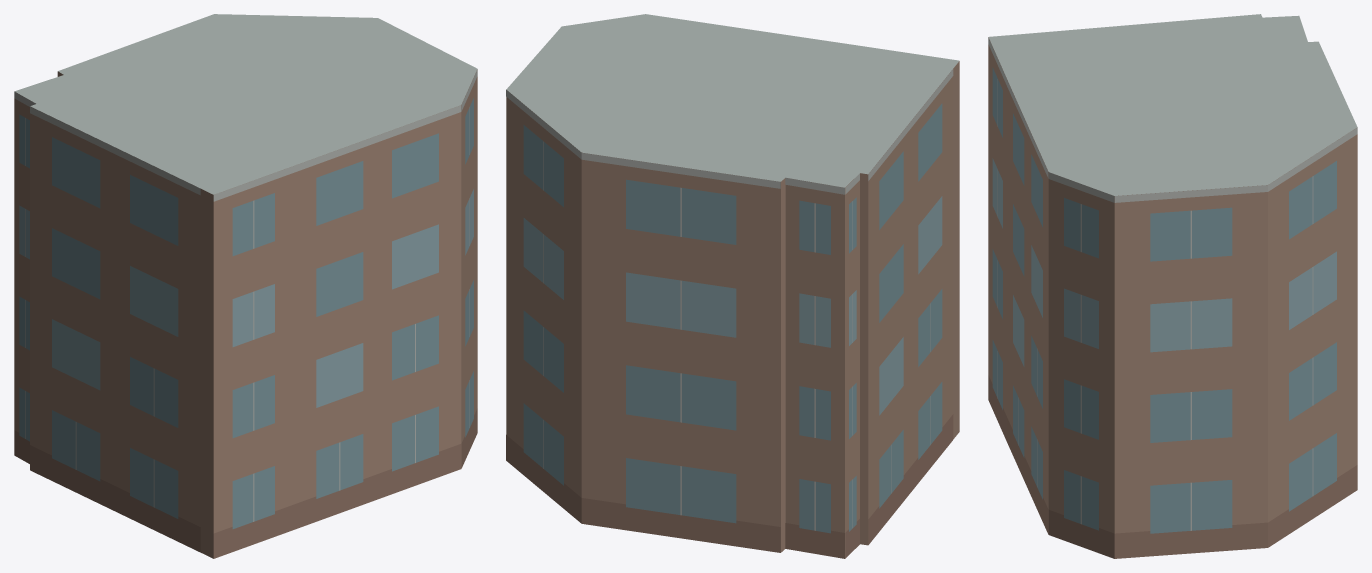
The model's file is survey-upis-32983092.glb.
The picture shows the model from 3 angles, left to right: view 1: azimuth 30°, elevation 25°; view 2: azimuth 150°, elevation 25°; view 3: azimuth 270°, elevation 25°; orthographic projection. The views are drawn at different scales.
Parts seen in each view (by area): view 1: survey-upis-32983092.tmp; view 2: survey-upis-32983092.tmp; view 3: survey-upis-32983092.tmp.
Part boxes in pixels (x1,y1,x2,y2): survey-upis-32983092.tmp: [14, 14, 477, 558]; survey-upis-32983092.tmp: [506, 14, 959, 558]; survey-upis-32983092.tmp: [988, 14, 1357, 558].
Bounding box in the file's own units: 13.78 × 12.8 × 11.81.
